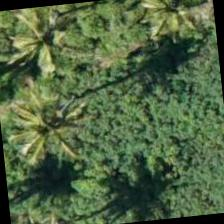Kelapa_Sawit: (118, 0, 215, 57)
